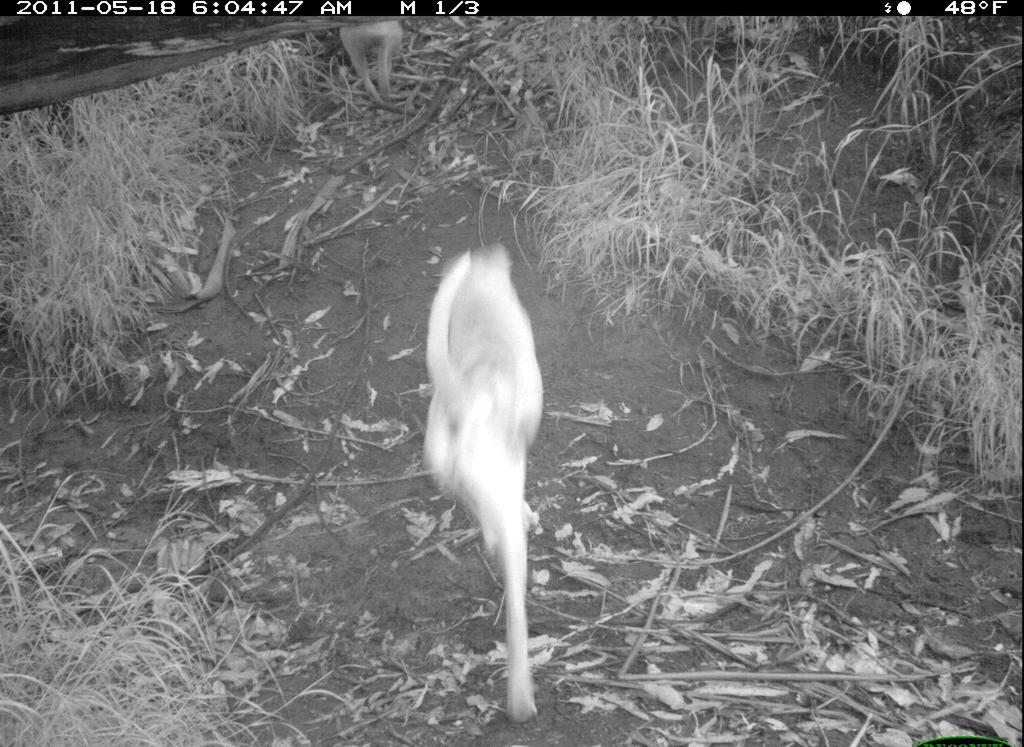dog: (418, 237, 551, 730), (337, 15, 410, 113)
